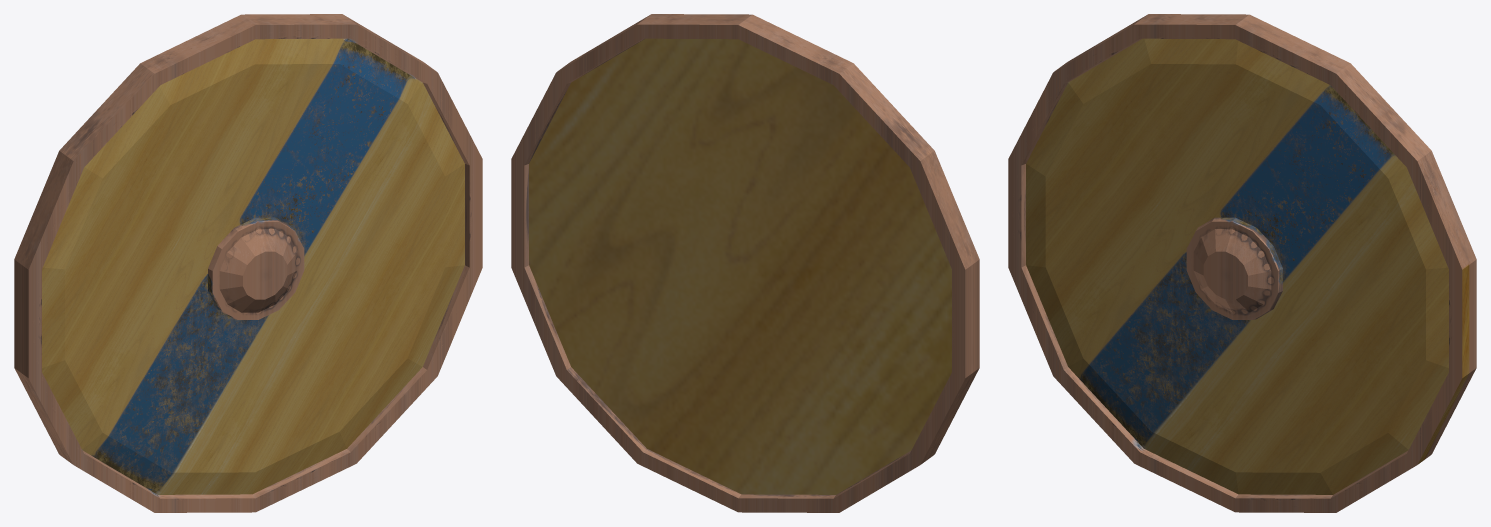
The model's file is Big Round Shield.fbx.
The picture shows the model from 3 angles, left to right: view 1: azimuth 30°, elevation 25°; view 2: azimuth 150°, elevation 25°; view 3: azimuth 330°, elevation 25°; orthographic projection.
Visible parts, largest first — view 1: Big_Round_Shield; view 2: Big_Round_Shield; view 3: Big_Round_Shield.
Part boxes in pixels (<box>): Big_Round_Shield: <box>14,14,482,512</box>; Big_Round_Shield: <box>511,14,979,512</box>; Big_Round_Shield: <box>1008,14,1476,512</box>.
Bounding box in the file's own units: 152 × 156 × 13.84.
